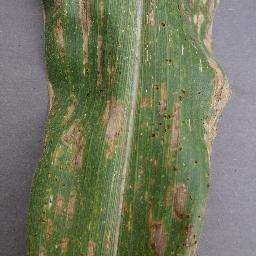Gray_Leaf_Spot: (198, 0, 233, 153), (166, 85, 187, 173), (100, 91, 125, 161), (40, 0, 67, 59), (40, 187, 78, 225), (60, 111, 84, 170), (141, 212, 169, 255), (146, 113, 167, 165), (34, 228, 70, 256), (36, 118, 56, 167), (77, 0, 90, 73), (122, 172, 137, 231), (90, 32, 105, 89), (170, 183, 190, 221), (139, 86, 166, 111), (142, 0, 158, 25), (172, 0, 197, 16), (190, 223, 202, 254), (46, 81, 57, 114), (81, 238, 101, 255), (65, 94, 81, 115), (159, 21, 169, 43), (146, 172, 158, 185), (214, 83, 218, 85)
